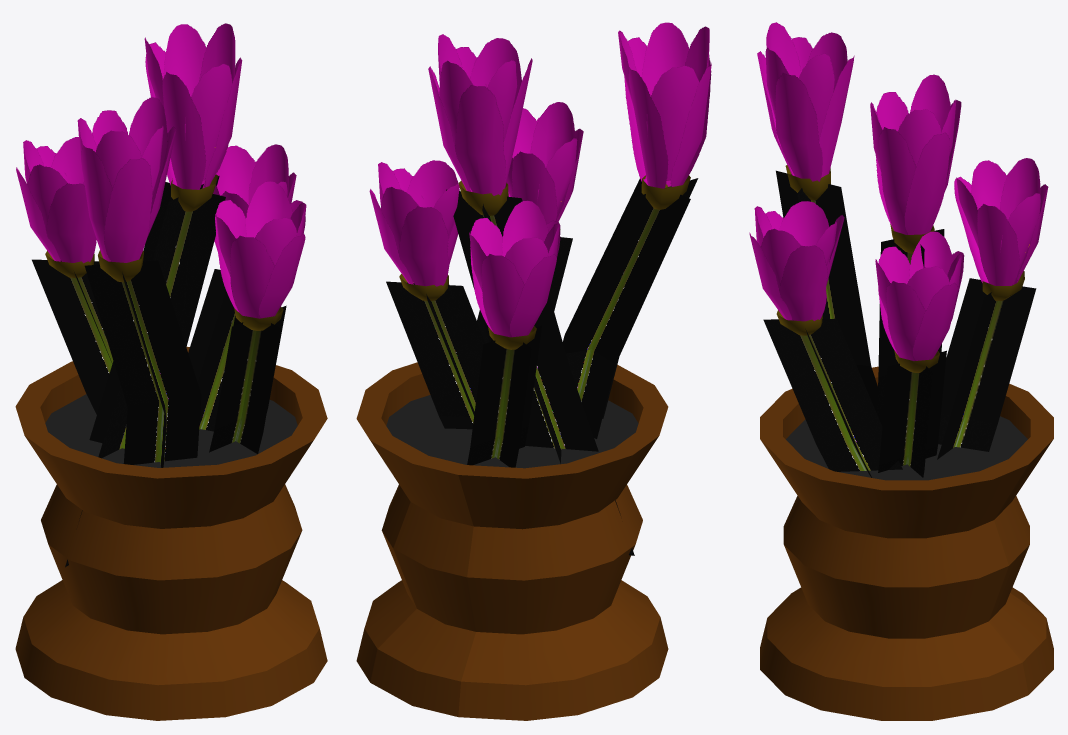
The model's file is Tulips.fbx.
The picture shows the model from 3 angles, left to right: view 1: azimuth 30°, elevation 25°; view 2: azimuth 150°, elevation 25°; view 3: azimuth 270°, elevation 25°; orthographic projection. The views are drawn at different scales.
Parts seen in each view (by area): view 1: Circle.001, Cube.015, Cube.014, Cube.018, Cube.016, Cube.017; view 2: Circle.001, Cube.015, Cube.014, Cube.017, Cube.016, Cube.018; view 3: Circle.001, Cube.016, Cube.018, Cube.015, Cube.017, Cube.014.
Part boxes in pixels (x1=…): Circle.001: x1=15, y1=346, x2=327, y2=720; Cube.015: x1=77, y1=97, x2=201, y2=467; Cube.014: x1=65, y1=23, x2=242, y2=567; Cube.018: x1=209, y1=181, x2=306, y2=454; Cube.016: x1=16, y1=137, x2=113, y2=414; Cube.017: x1=188, y1=144, x2=296, y2=431; Circle.001: x1=356, y1=362, x2=668, y2=720; Cube.015: x1=563, y1=22, x2=711, y2=438; Cube.014: x1=428, y1=34, x2=634, y2=555; Cube.017: x1=369, y1=160, x2=485, y2=429; Cube.016: x1=467, y1=200, x2=560, y2=467; Cube.018: x1=477, y1=102, x2=583, y2=343; Circle.001: x1=760, y1=366, x2=1053, y2=720; Cube.016: x1=937, y1=158, x2=1048, y2=459; Cube.018: x1=749, y1=201, x2=902, y2=477; Cube.015: x1=757, y1=22, x2=884, y2=426; Cube.017: x1=875, y1=231, x2=964, y2=477; Cube.014: x1=870, y1=74, x2=961, y2=417.
Size of the model in its own units: 33.54 by 70.85 by 33.63.
